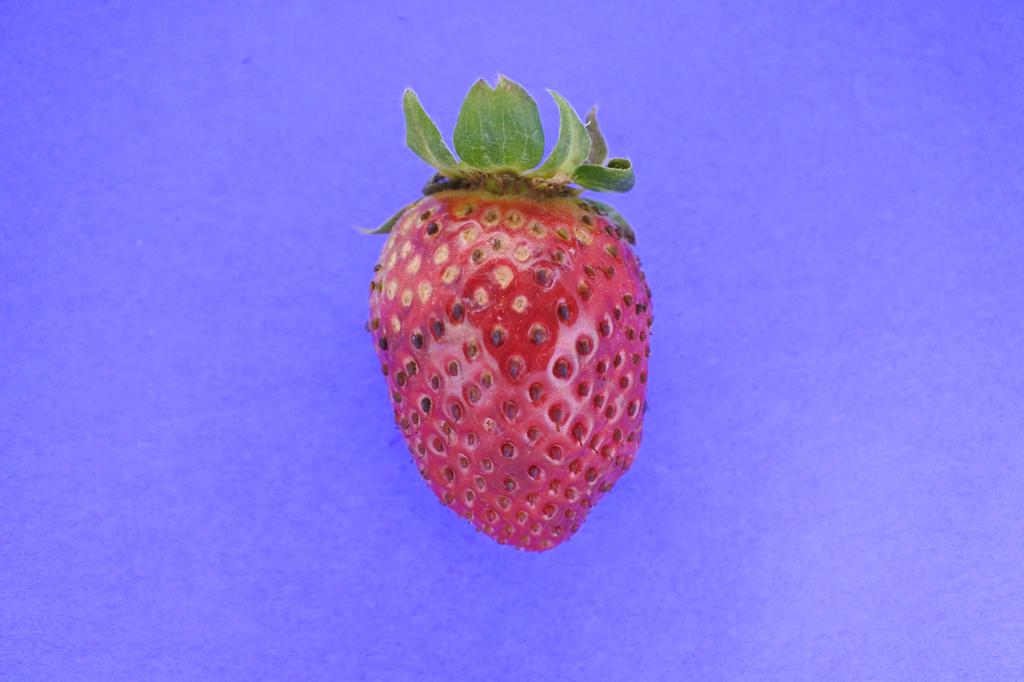red strawberry: (355, 77, 656, 554)
